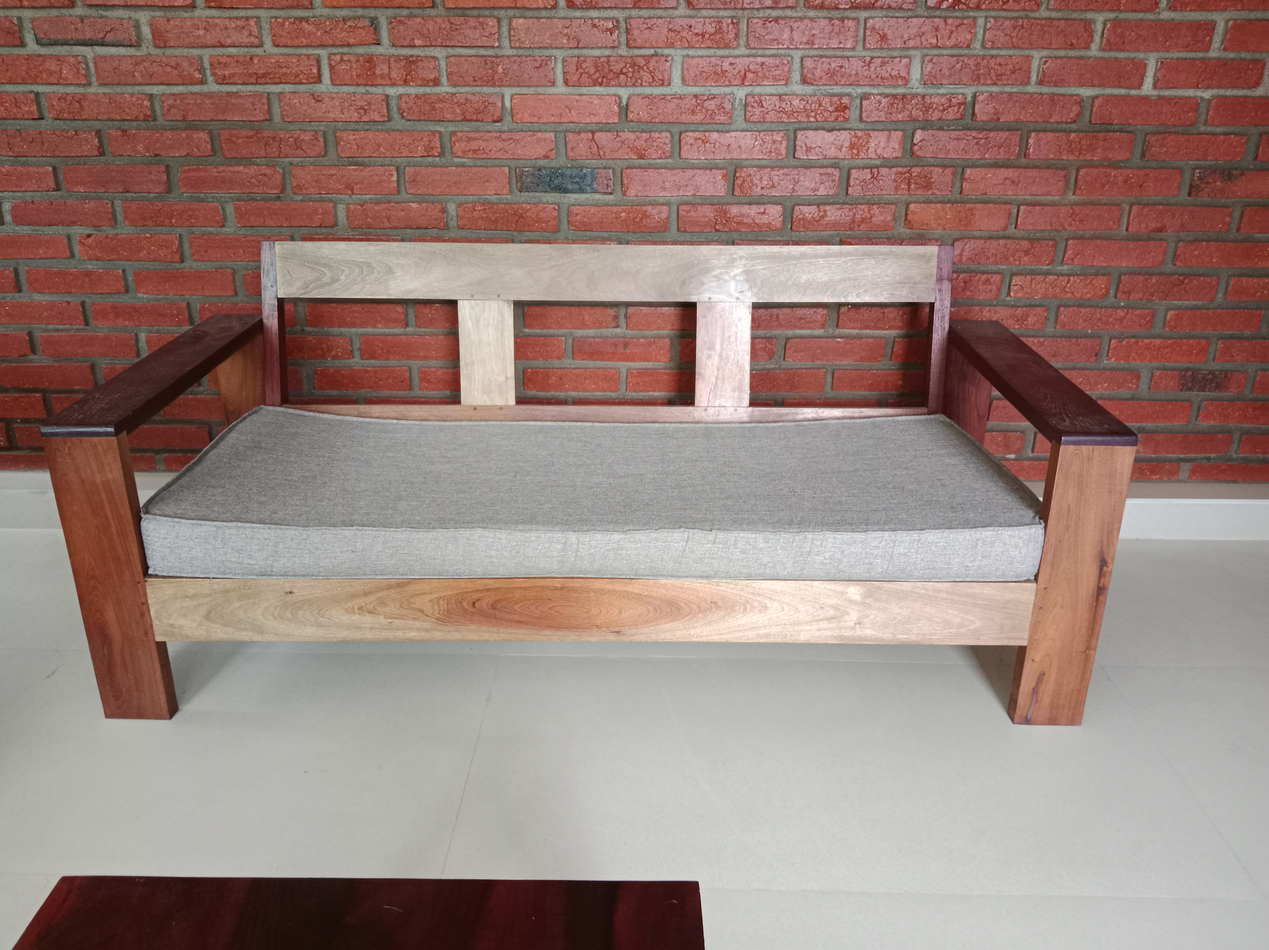sofa: (36, 240, 1138, 731)
